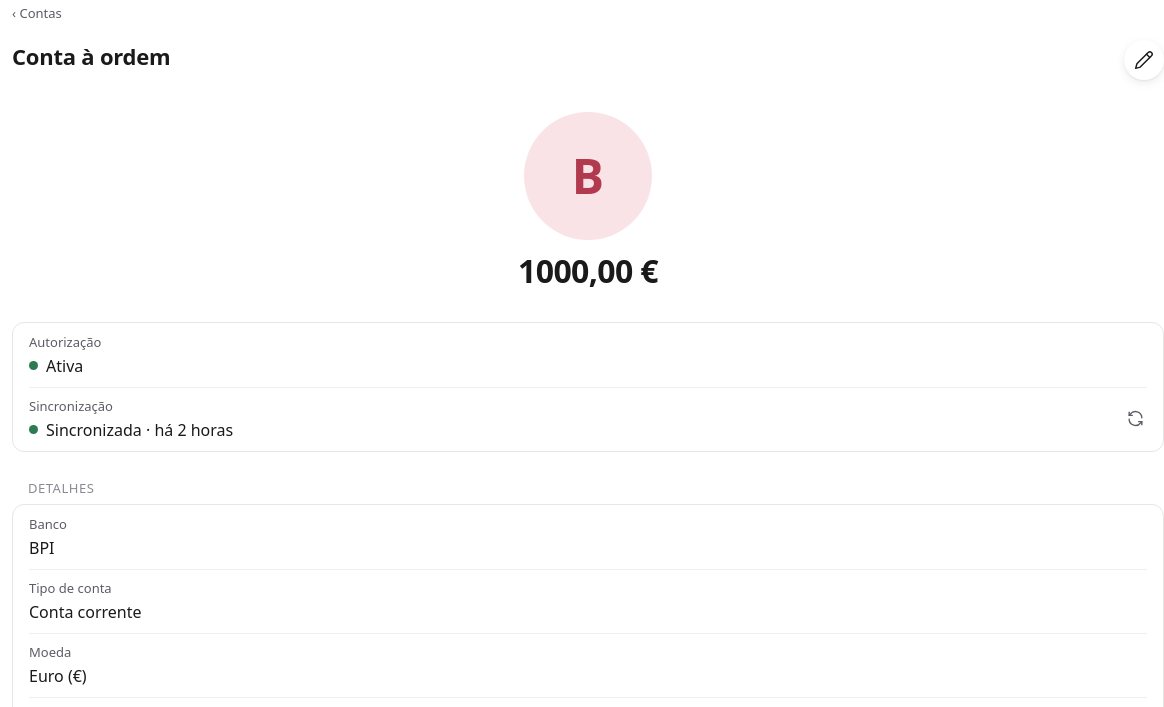
Test: Ver conta — o painel do banco › o ↻ sincroniza e diz o resultado num aviso em baixo
Click the button named "Sincronizar agora": coordinates (1135, 418) left=1113, top=396, right=1157, bottom=440
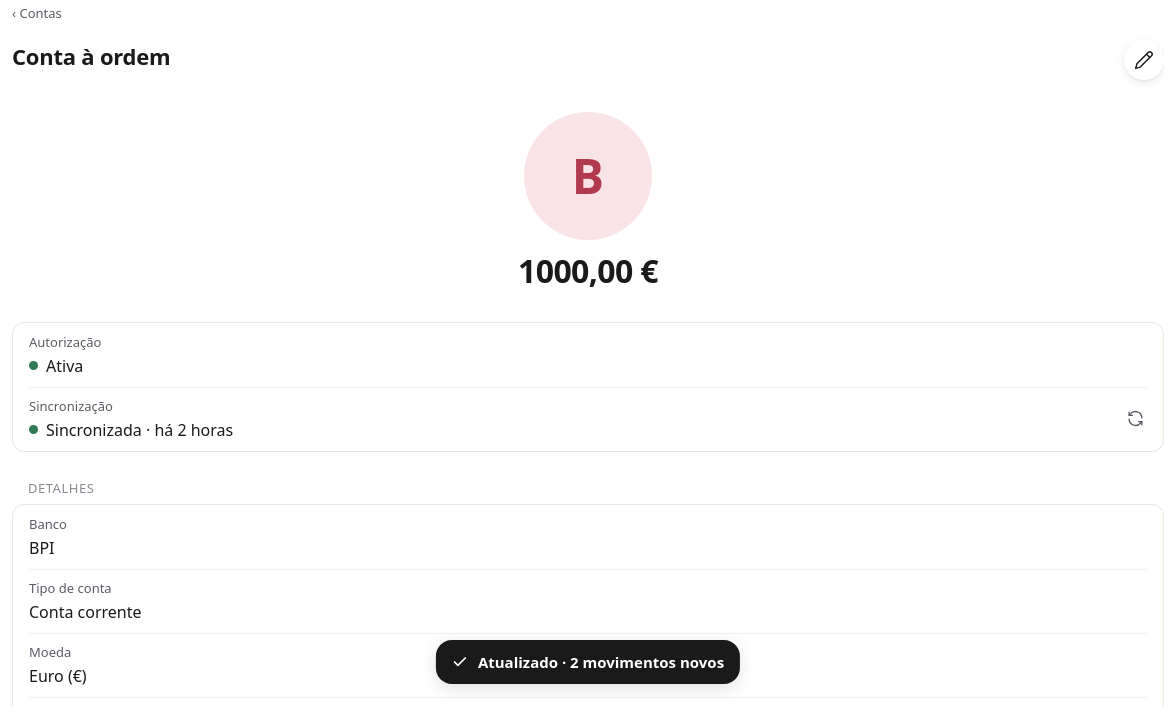
Expected: the text "Atualizado · 2 movimentos novos" is shown, left=478, top=652, right=724, bottom=672
